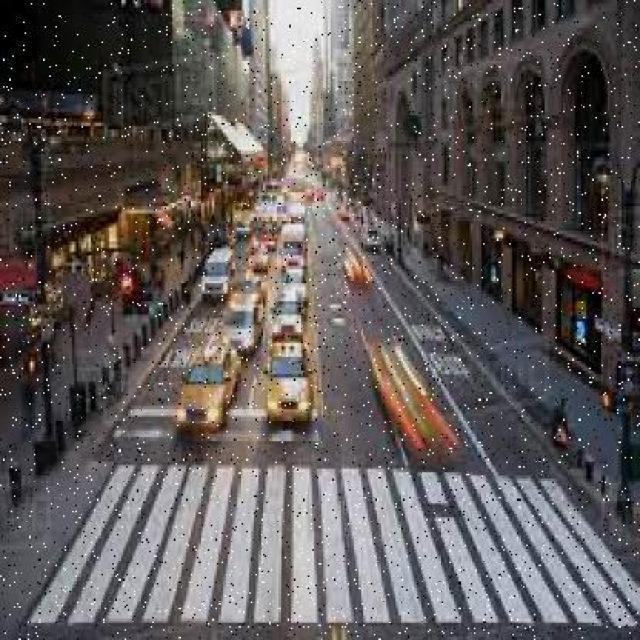Pedestrian crosswalk: (13, 462, 639, 630)
